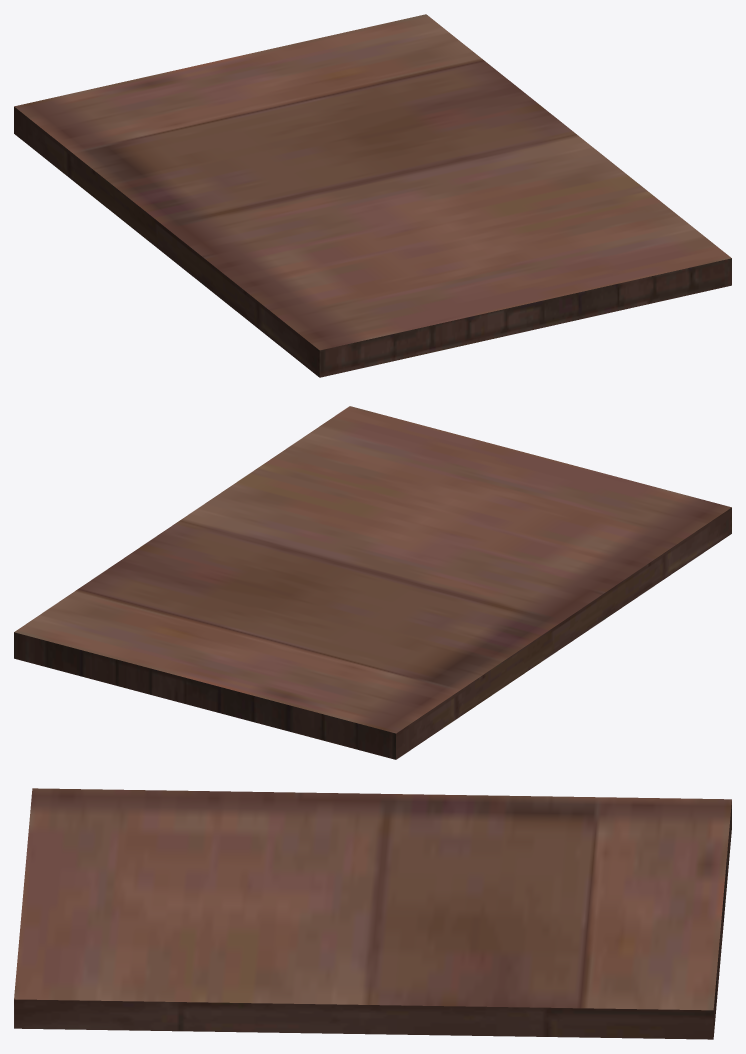
Rendered from woodBlock2 (56).fbx.
The picture shows the model from 3 angles, top to bottom: view 1: azimuth 30°, elevation 25°; view 2: azimuth 150°, elevation 25°; view 3: azimuth 270°, elevation 25°; orthographic projection. The views are drawn at different scales.
Visible parts, largest first — view 1: woodBlock2 (56); view 2: woodBlock2 (56); view 3: woodBlock2 (56).
Part boxes in pixels (box(x1,y1,x2,y2)): woodBlock2 (56): box(14, 14, 731, 377); woodBlock2 (56): box(14, 406, 731, 759); woodBlock2 (56): box(14, 788, 731, 1039).
Bounding box in the file's own units: 8.84 × 0.5428 × 12.08.
